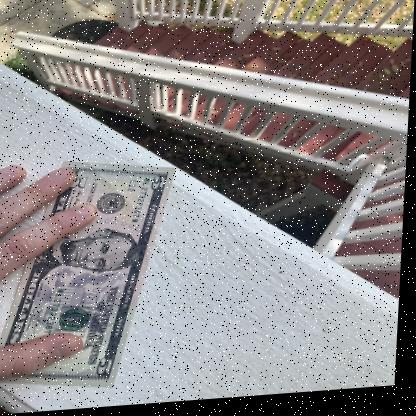five-front: (0, 165, 183, 389)
